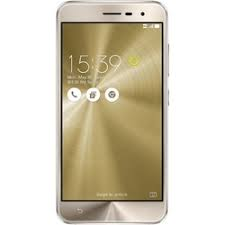asus: (51, 1, 174, 223)
